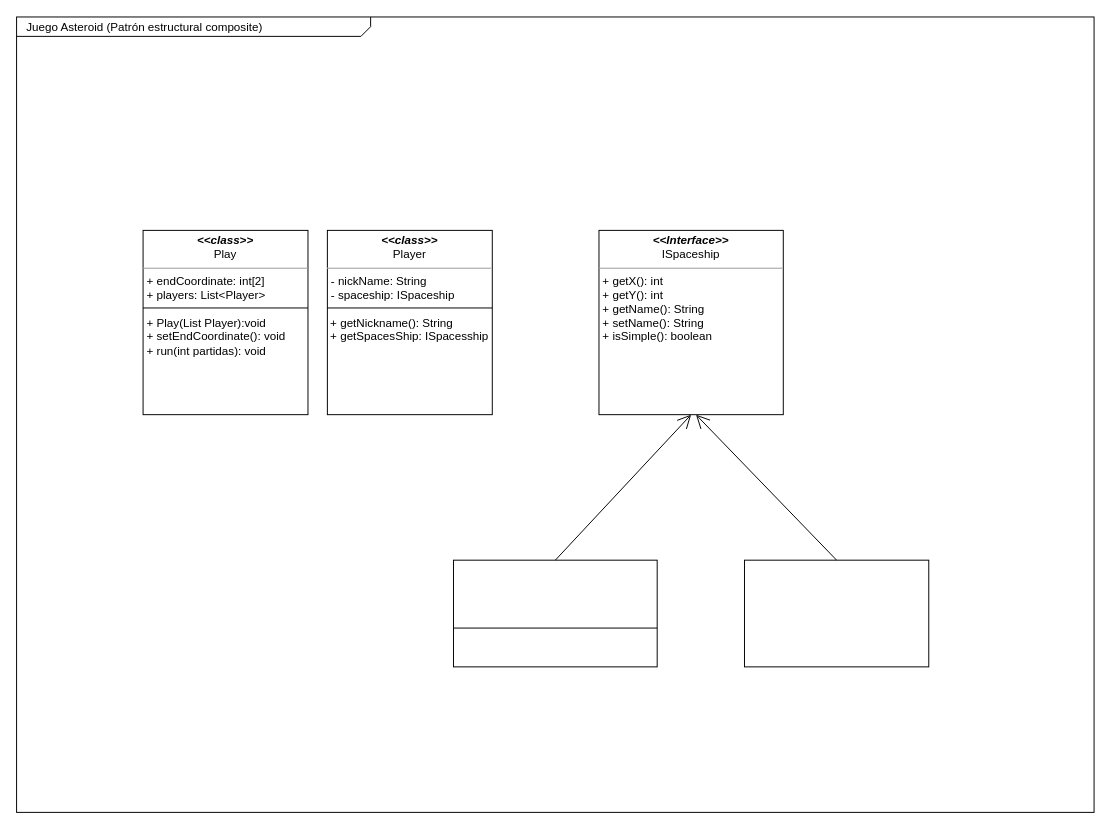
Some shapes in this 1112 by 829 pixel diagram are drawn without their labels. Here are the shapes that lost their labels. From the top down, the centre of each, then its label:
At point 555,613: "<<class>> ComposeSpaceship - spaceships: List + addSpaceships(ISpaceship):void".
At point 836,613: "<<class>> LeafSpaceship - name: String - x: int - y: int".
